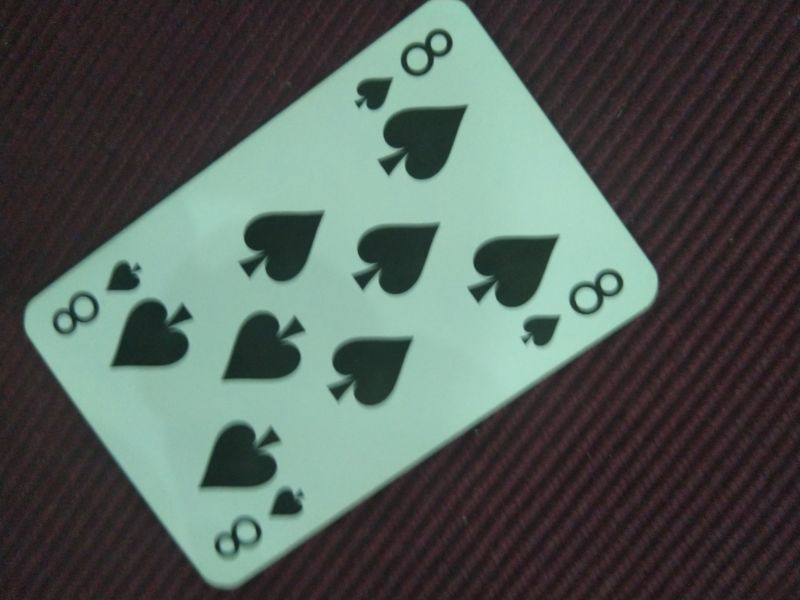8s: (517, 263, 627, 350), (351, 24, 454, 114), (51, 258, 144, 339), (210, 485, 306, 561)
